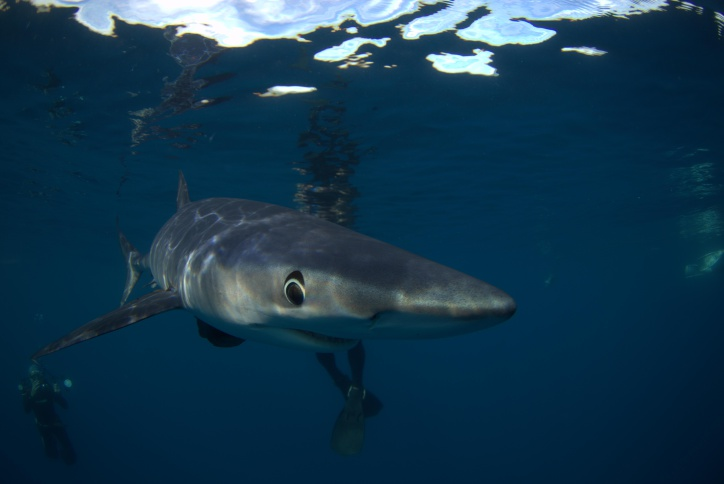Azul: (23, 167, 540, 374)
